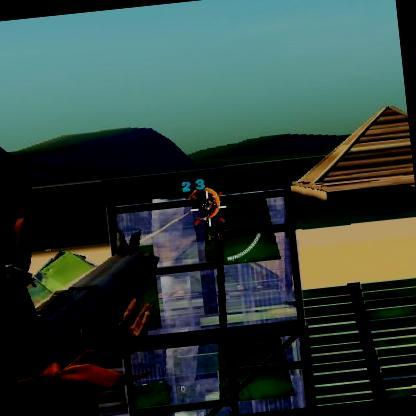person: (200, 193, 228, 248)
